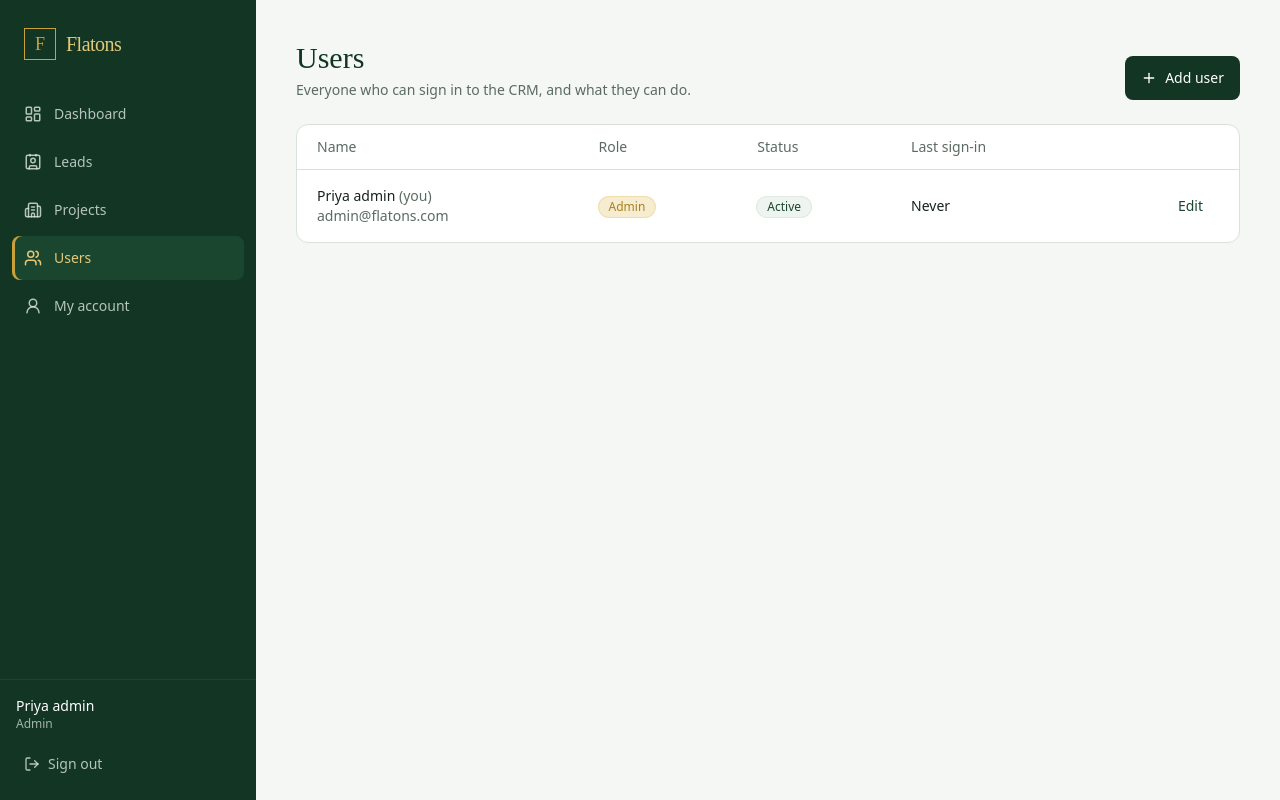
Scenario: users page › shows validation errors from the server when adding a user
The image size is (1280, 800).
Click the button "Add user" at (1183, 78), box 1125,56 -> 1240,100
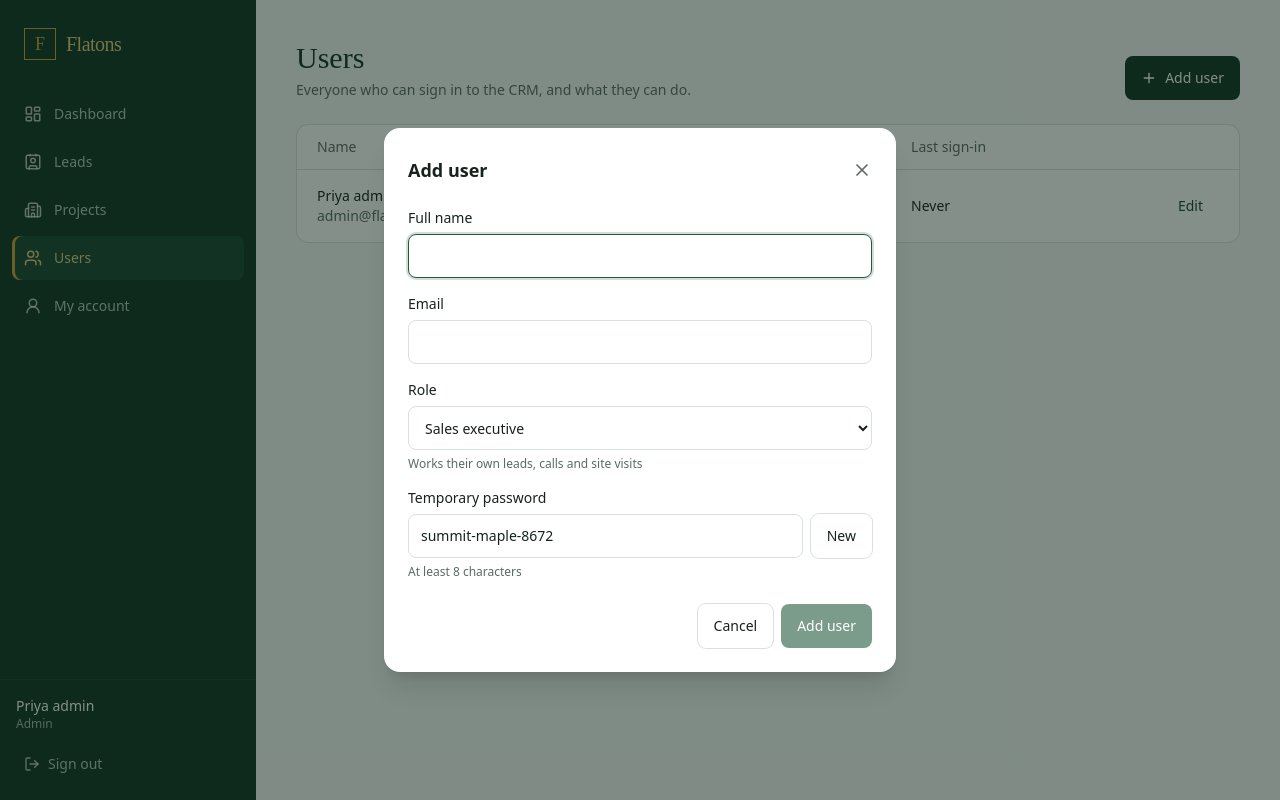
Type "Ravi Kumar" into the field labelled "Full name" at (640, 256), box 408,234 -> 872,278
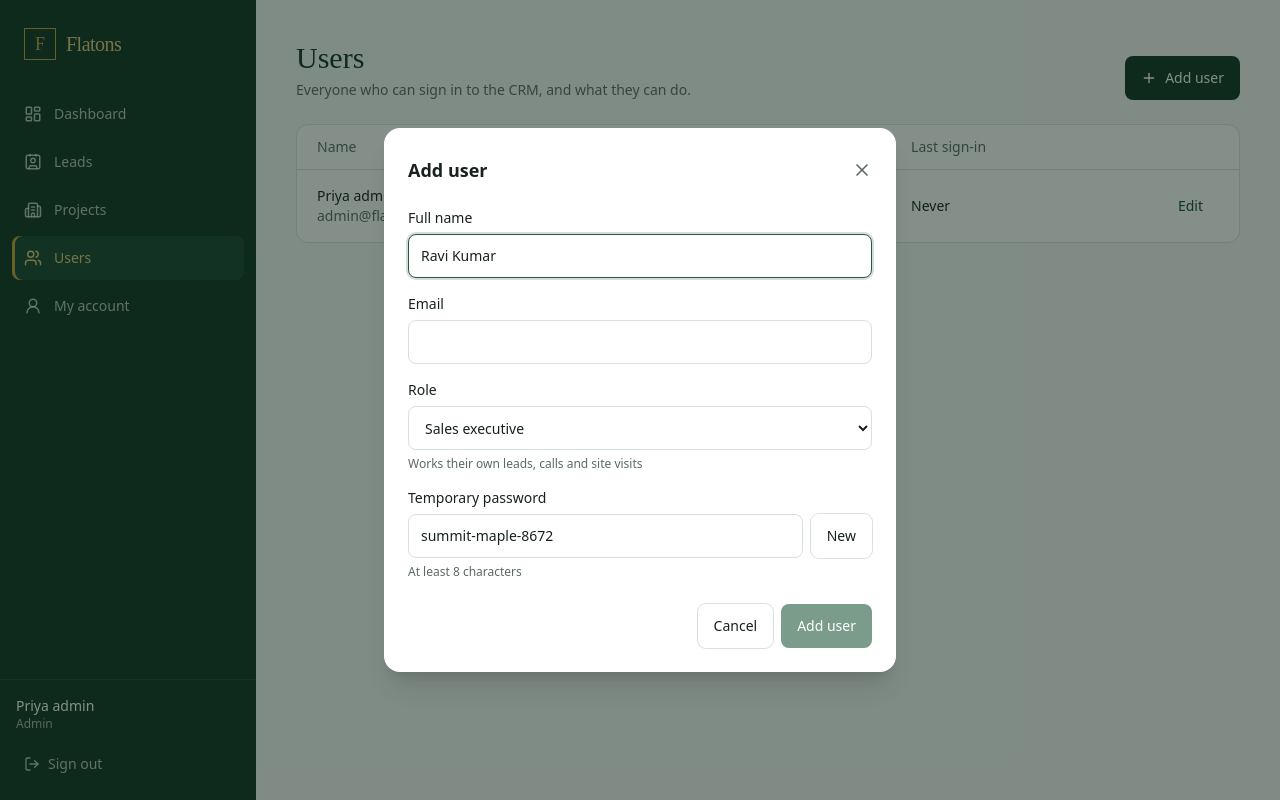
Type "ravi@flatons.com" into the field labelled "Email" at (640, 342), box 408,320 -> 872,364
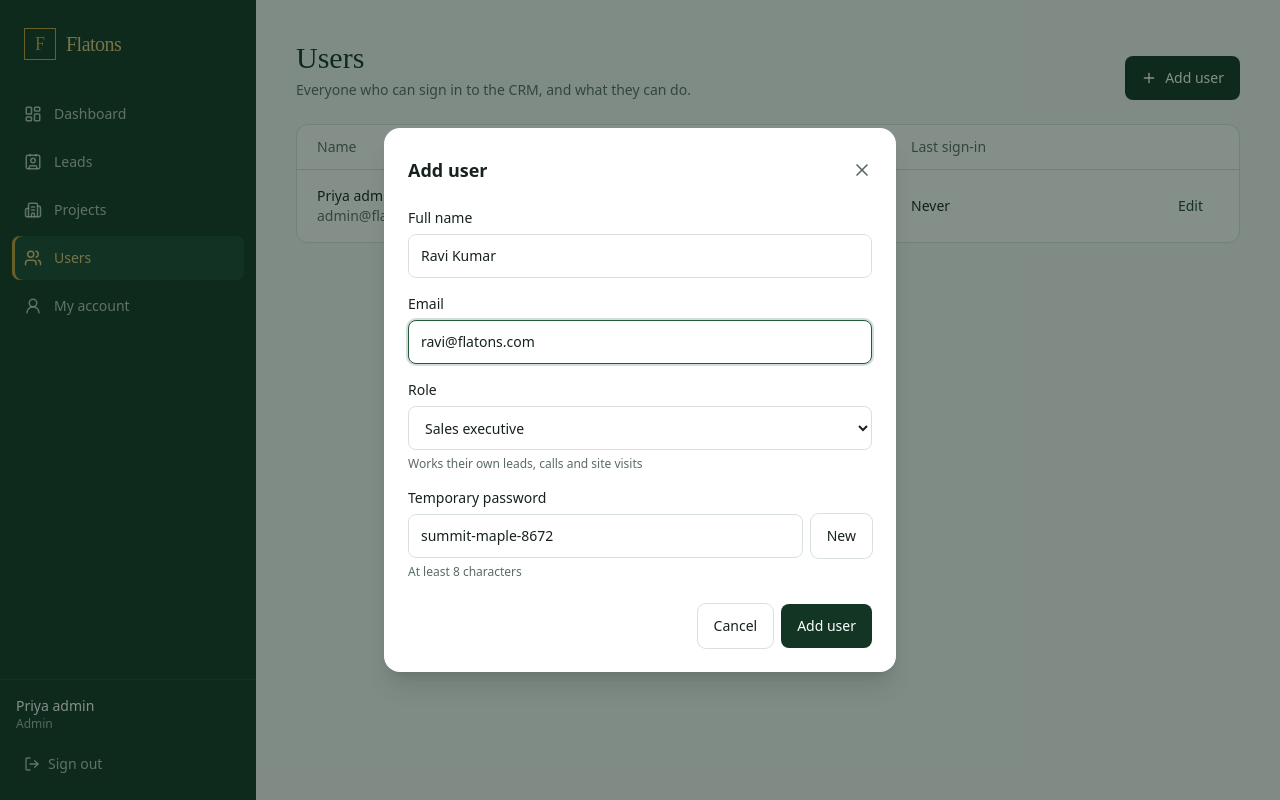
Click the button "Add user" at (827, 626), box 781,604 -> 872,648
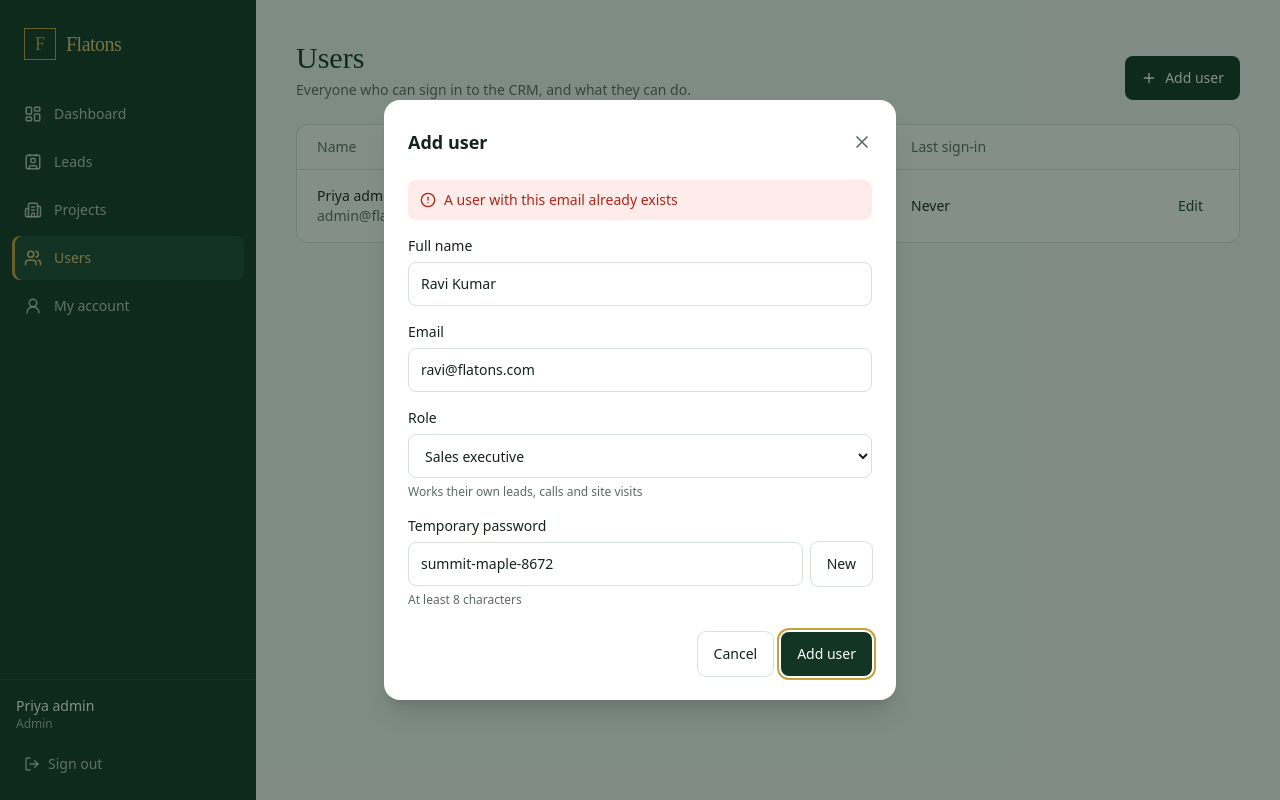
Expected: the message reads "A user with this email already exists", 444,190 -> 678,209
